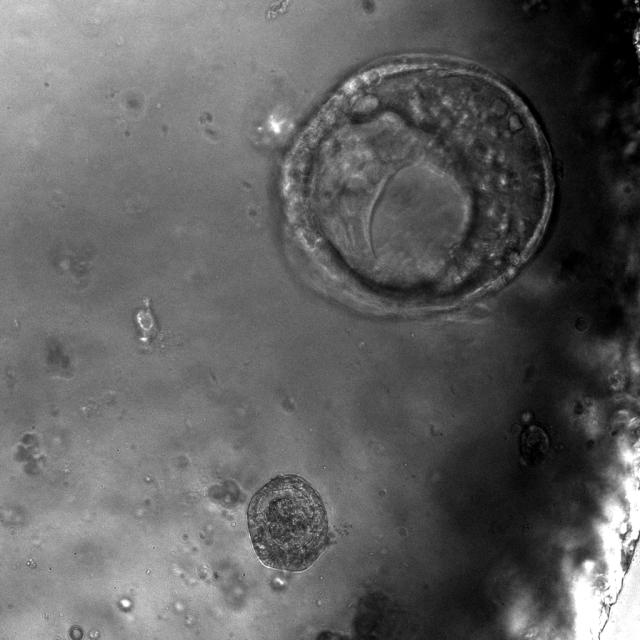organoid: (279, 54, 554, 316), (247, 475, 328, 571)
